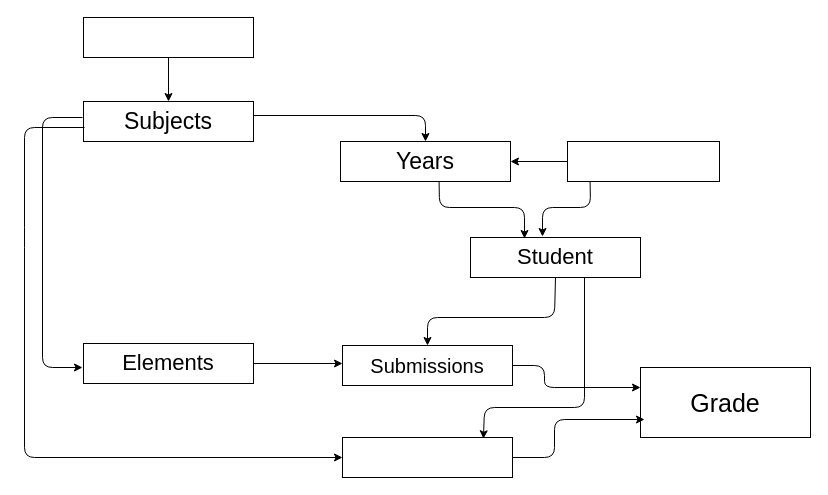
Image size: 828x495. Some labels were removed from this diagram. The shapes that lost their labels are listed below. From the top down, each one's box as (x1, y1, x2, y2) in pixels, then its label:
(82, 16, 254, 58): Teachers
(566, 140, 720, 182): Department
(342, 436, 512, 478): Attendance
